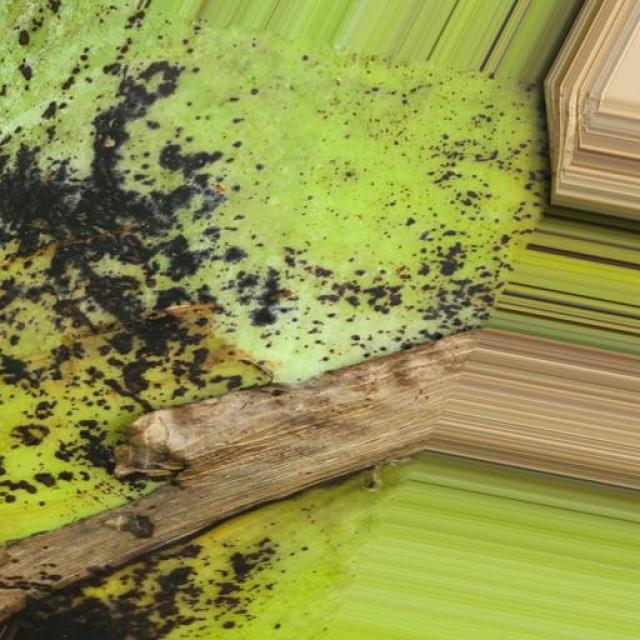Anthracnose: (1, 3, 598, 640)
